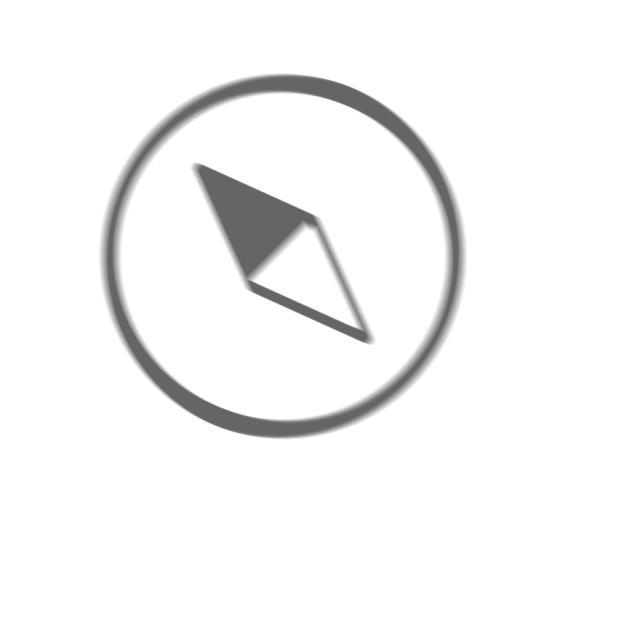compass: (94, 71, 473, 450)
